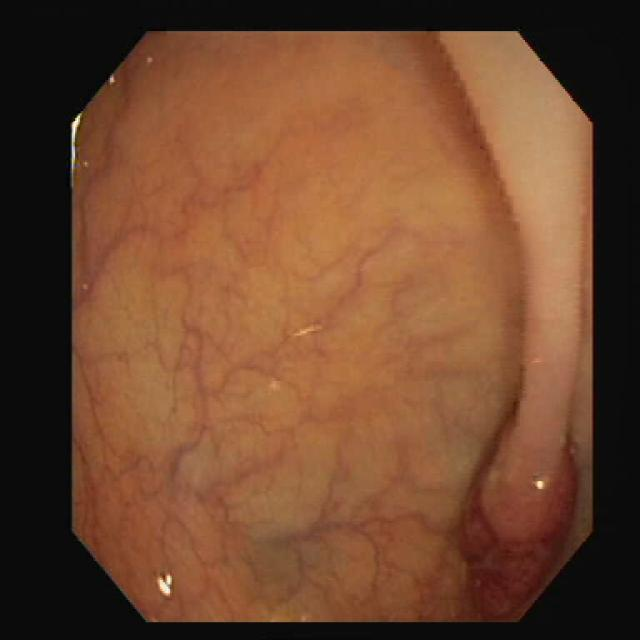tumor: (455, 389, 582, 576)
